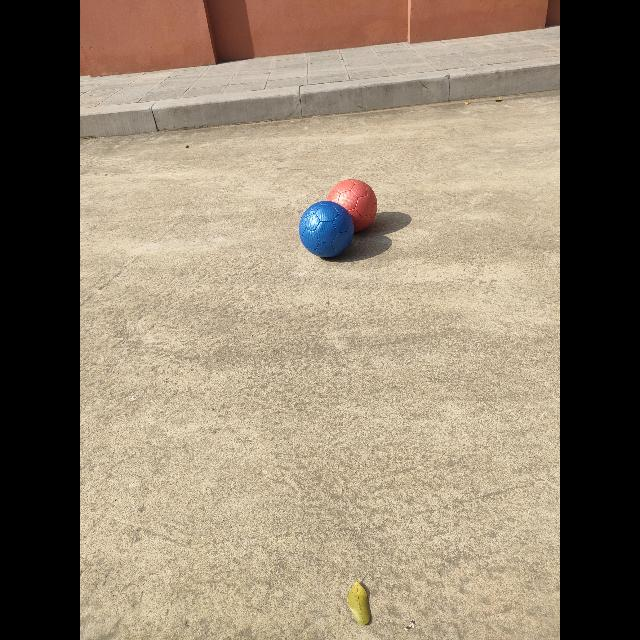B: (299, 201, 354, 258)
R: (328, 180, 378, 231)
